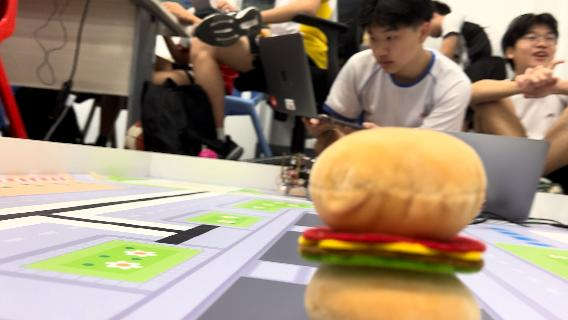burger: (296, 126, 491, 316)
